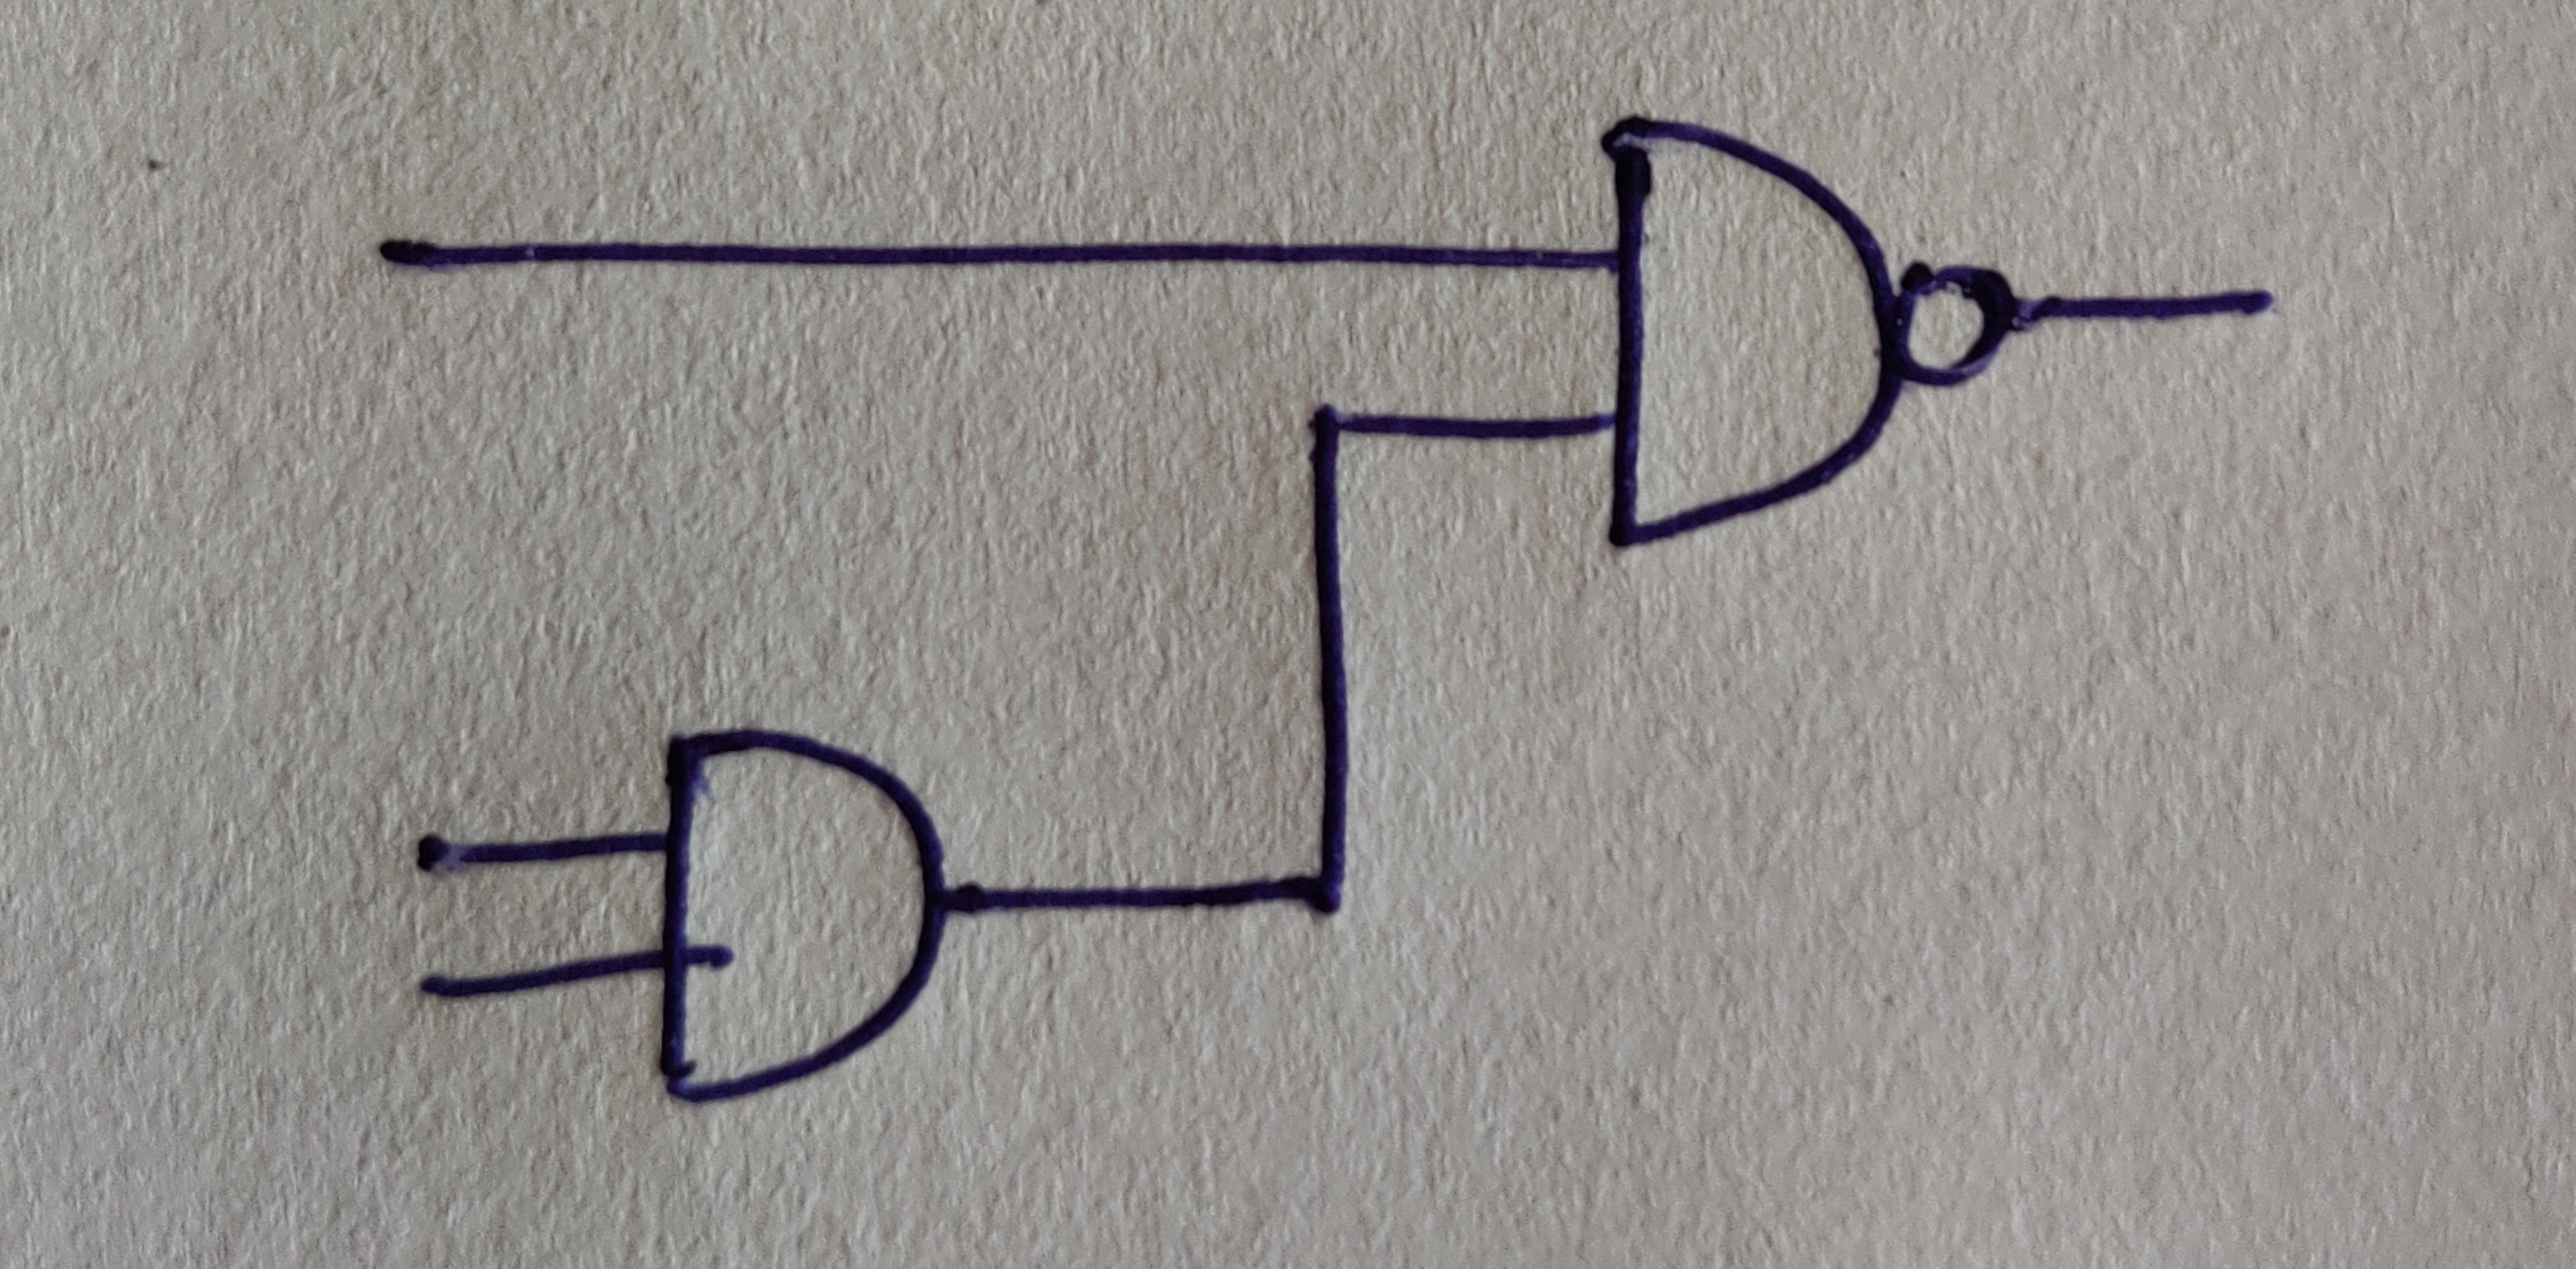and: (1603, 117, 1899, 547), (659, 727, 945, 1108)
not: (1896, 264, 2016, 386)
